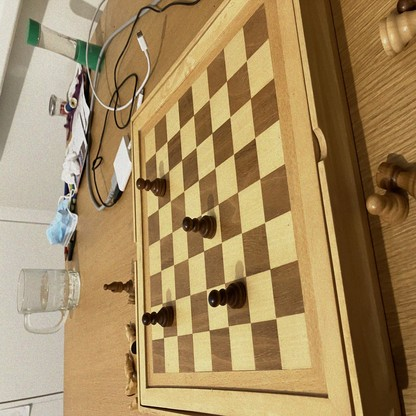bishop_black: (102, 281, 133, 294)
bishop_white: (124, 352, 135, 396)
pawn_black: (210, 282, 245, 310), (184, 217, 216, 239), (143, 306, 175, 326), (137, 178, 165, 196)
pawn_white: (366, 193, 410, 224)
queen_white: (126, 324, 139, 353)
rock_black: (376, 164, 416, 196)
